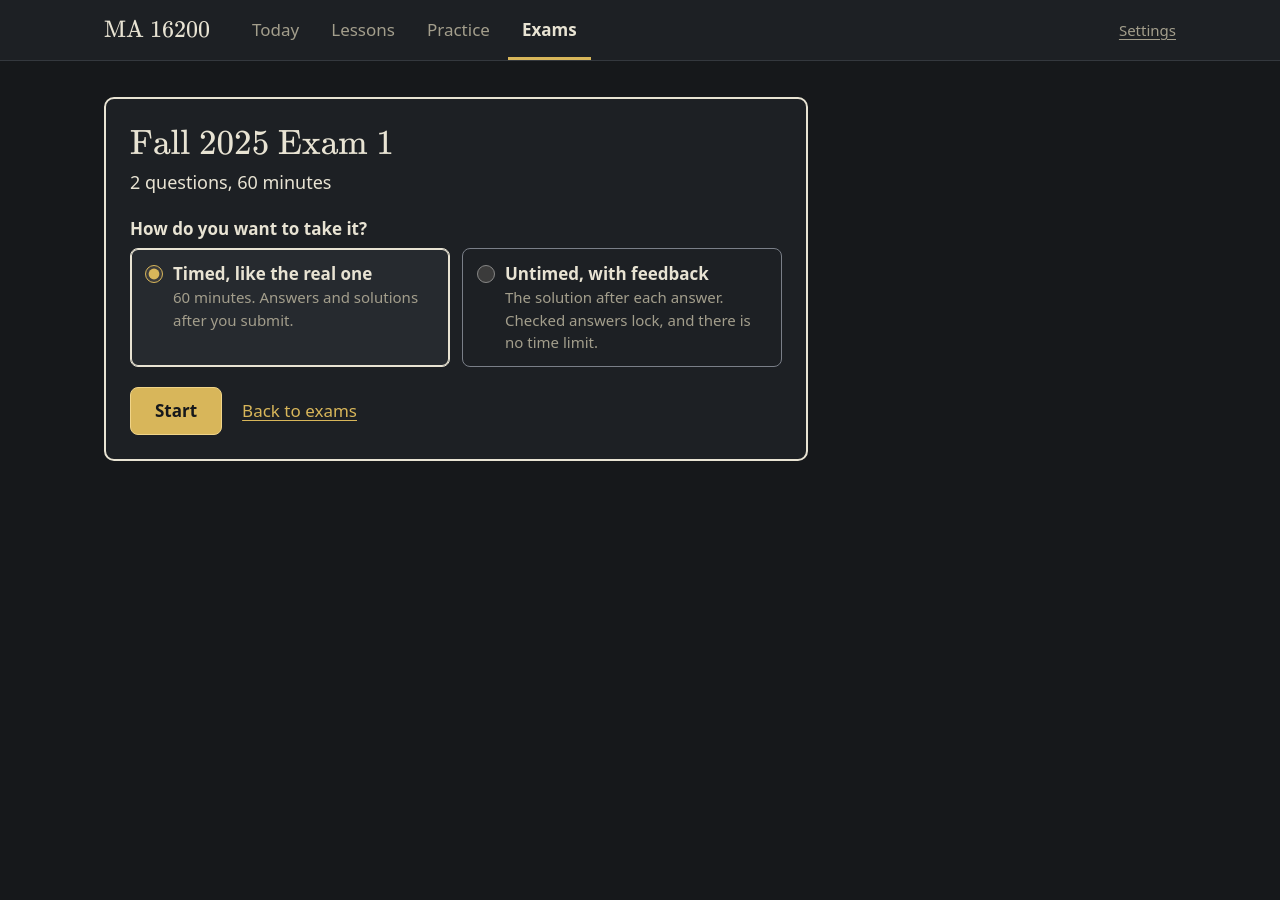
Scenario: a running timed exam shows no navigation and no links at all, while its start screen still does
The width and height of the screenshot is (1280, 900).
Expected: the navigation bar named "Main" is shown, [252,0,591,60]
Step 1. Click the button "Start" → click(176, 411), box [130,387,222,435]
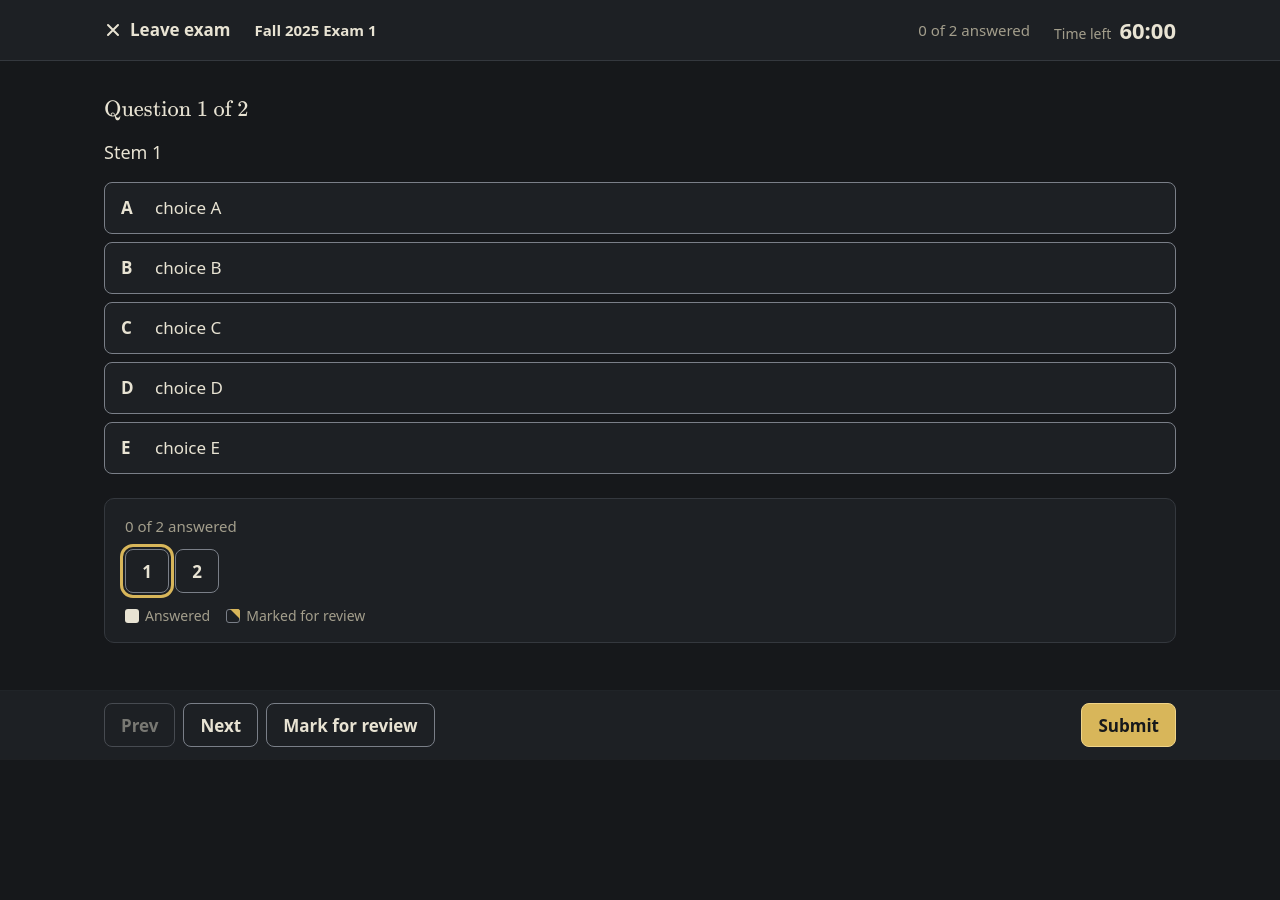
Result: the heading "Question 1 of 2" is shown at [104,96,248,122]
Result: the navigation bar "Main" is gone
Result: no links are shown
